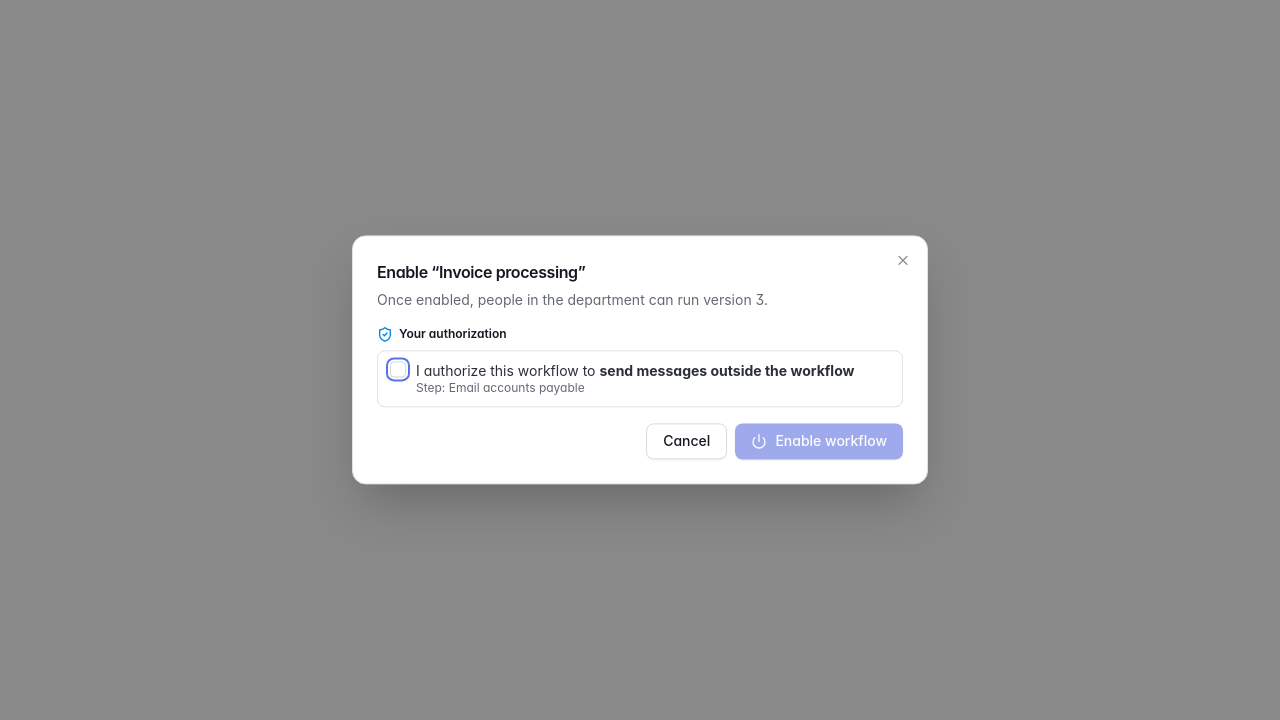
Scenario: Enable dialog › shows missing acknowledgements returned by the server
This screenshot has width=1280, height=720.
Click the checkbox named "send messages" at x=398, y=369, box [390,361,406,377]
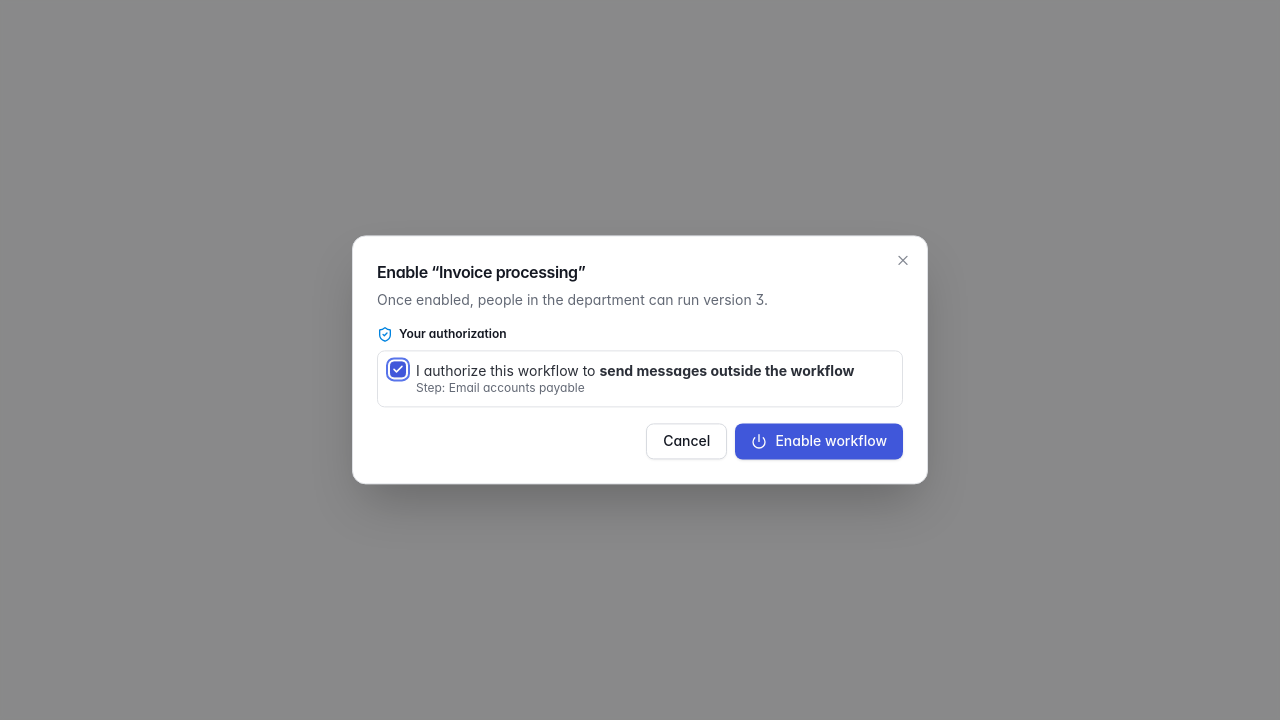
Click the button "Enable workflow" at x=819, y=442, box [735,424,903,460]
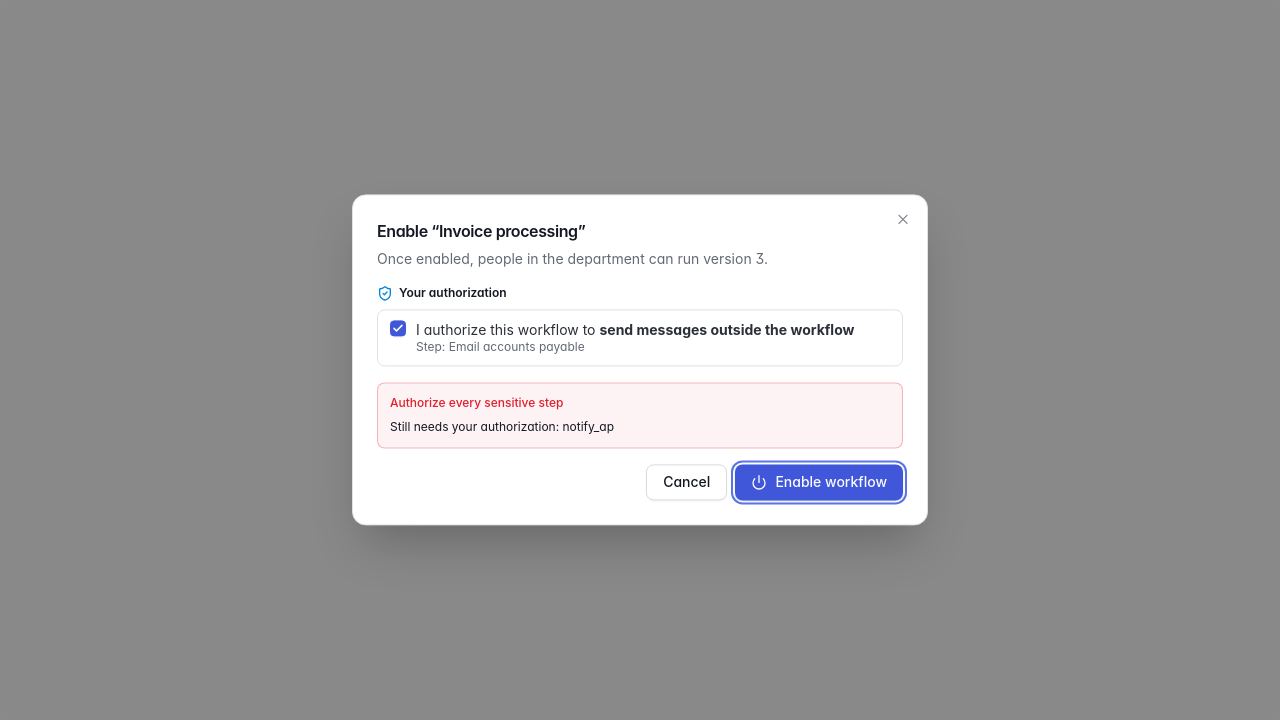
Expected: the text "Authorize every sensitive step" is shown, [390,396,563,411]
Expected: the text "Still needs your authorization: notify_ap" is shown, [390,420,614,435]
